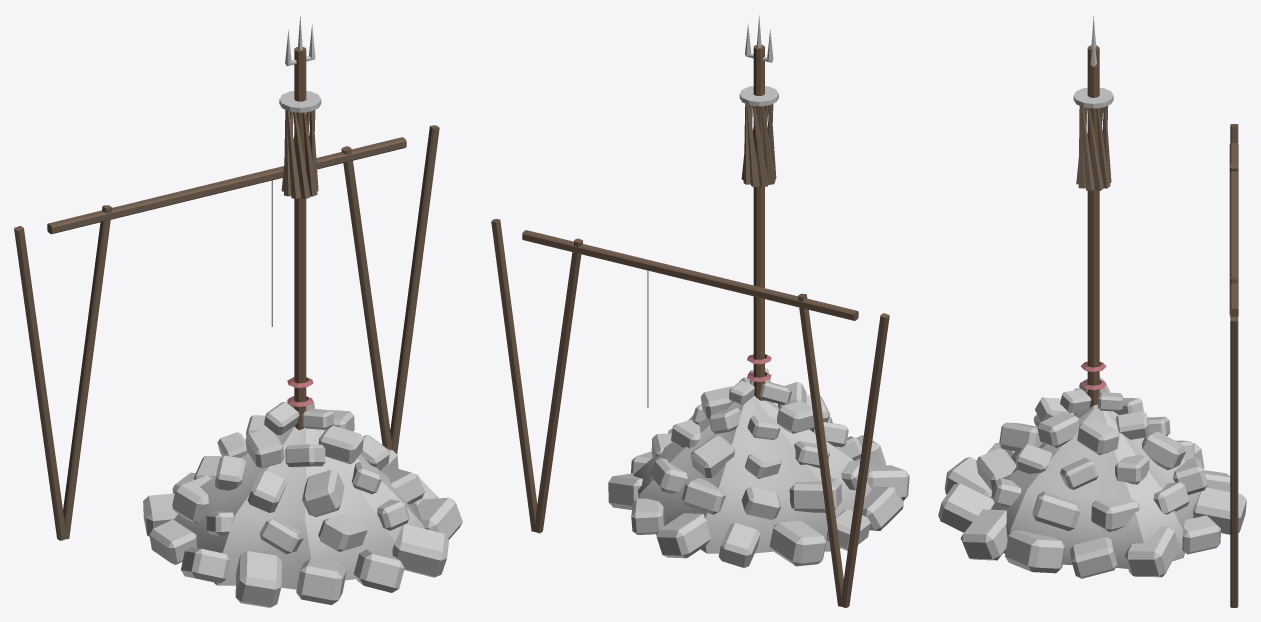
The model's file is khan_memorial.glb.
3 renders of one model, left to right at view 1: azimuth 30°, elevation 25°; view 2: azimuth 150°, elevation 25°; view 3: azimuth 270°, elevation 25°, orthographic. The views are drawn at different scales.
Parts seen in each view (by area): view 1: khan_memorial; view 2: khan_memorial; view 3: khan_memorial.
Boxes of the visible parts, <box> form: khan_memorial: <box>14,16,462,607</box>; khan_memorial: <box>491,15,909,607</box>; khan_memorial: <box>938,16,1246,607</box>.
Size of the model in its own units: 4.65 by 5.66 by 3.07.
